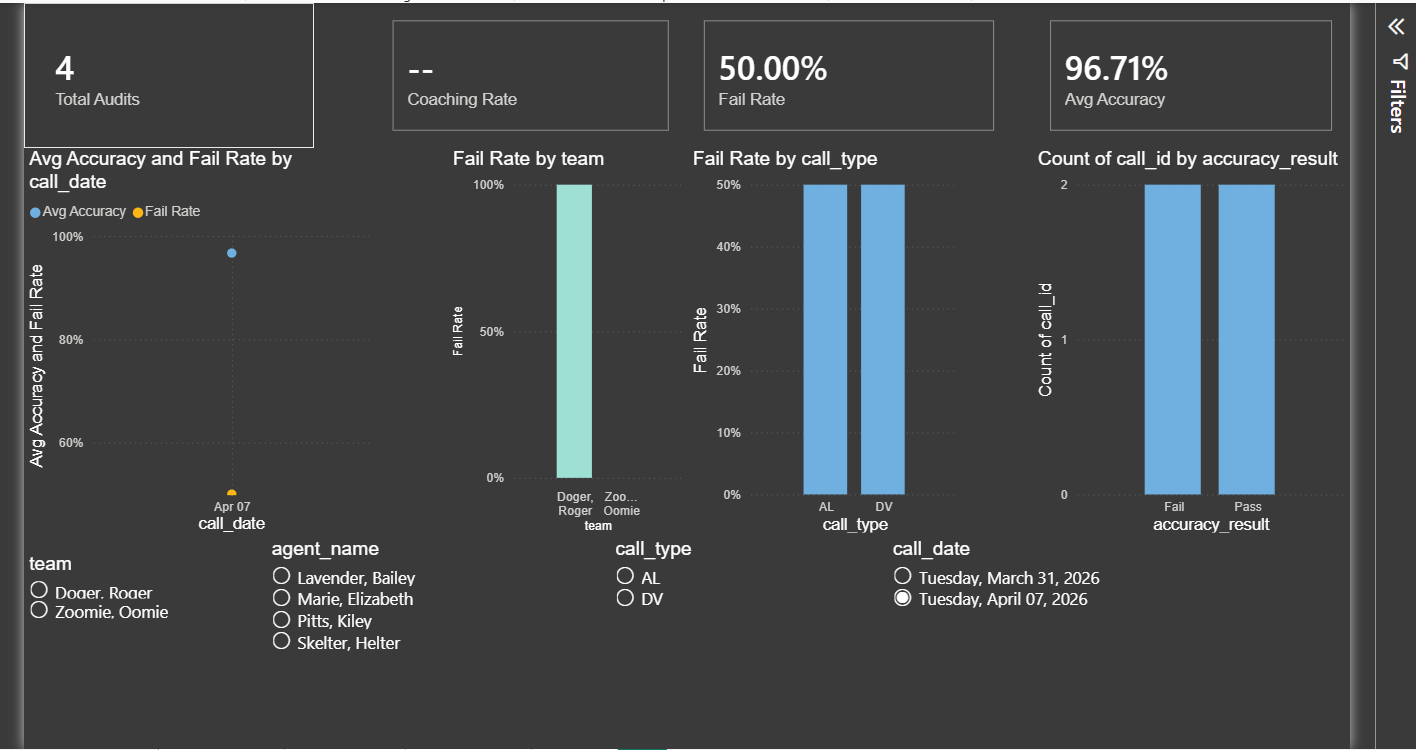

The dashboard page shown, as its layout file describes it:
{"tool":"powerbi","page":{"name":"QC Metrics","canvas":[1280,720],"ordinal":0},"visuals":[{"type":"cardVisual","fields":{"Data":["QC_Audit_Data.Total Audits"]},"box":[0,0,280.1,140.1],"z":0},{"type":"cardVisual","fields":{"Data":["QC_Audit_Data.Fail Rate"]},"box":[640,0,314.2,140.1],"z":1000},{"type":"cardVisual","fields":{"Data":["QC_Audit_Data.Avg Accuracy"]},"box":[973.6,0,306.4,140.1],"z":2000},{"type":"cardVisual","fields":{"Data":["QC_Audit_Data.Coaching Rate"]},"box":[339.5,0,300.5,140.1],"z":3000},{"type":"lineChart","fields":{"Y":["QC_Audit_Data.Avg Accuracy","QC_Audit_Data.Fail Rate"],"Category":["QC_Audit_Data.call_date"]},"box":[0,140.1,338.5,376.4],"z":4000},{"type":"clusteredColumnChart","fields":{"Category":["QC_Audit_Data.team"],"Y":["QC_Audit_Data.Fail Rate"]},"box":[408.8,140.1,231.4,376],"z":5000},{"type":"clusteredColumnChart","fields":{"Category":["QC_Audit_Data.call_type"],"Y":["QC_Audit_Data.Fail Rate"]},"box":[640.2,140.1,266.9,376],"z":6000},{"type":"listSlicer","fields":{"Values":["QC_Audit_Data.team"]},"box":[0,531.1,280.1,188.7],"z":7000},{"type":"listSlicer","fields":{"Values":["QC_Audit_Data.agent_name"]},"box":[234.4,516.5,299.6,203.3],"z":8000},{"type":"listSlicer","fields":{"Values":["QC_Audit_Data.call_type"]},"box":[566,516,267,203],"z":9000},{"type":"listSlicer","fields":{"Values":["QC_Audit_Data.call_date"]},"box":[833.6,516.5,280.1,203.3],"z":10000},{"type":"clusteredColumnChart","fields":{"Category":["QC_Audit_Data.accuracy_result"],"Y":["CountNonNull(QC_Audit_Data.call_id)"]},"box":[974,140,306,376],"z":11000}]}

Visuals, with their boxes on the page's 1280x720 design canvas (x1, y1, x2, y2). These are canvas units, not pixel positions in the 1416x750 screenshot, which may show the page scaled, cropped or inside an application window:
cardVisual - QC_Audit_Data.Total Audits: <box>0,0,280,140</box>
cardVisual - QC_Audit_Data.Fail Rate: <box>640,0,954,140</box>
cardVisual - QC_Audit_Data.Avg Accuracy: <box>974,0,1280,140</box>
cardVisual - QC_Audit_Data.Coaching Rate: <box>340,0,640,140</box>
lineChart - QC_Audit_Data.Avg Accuracy x QC_Audit_Data.Fail Rate: <box>0,140,338,516</box>
clusteredColumnChart - QC_Audit_Data.team x QC_Audit_Data.Fail Rate: <box>409,140,640,516</box>
clusteredColumnChart - QC_Audit_Data.call_type x QC_Audit_Data.Fail Rate: <box>640,140,907,516</box>
listSlicer - QC_Audit_Data.team: <box>0,531,280,720</box>
listSlicer - QC_Audit_Data.agent_name: <box>234,516,534,720</box>
listSlicer - QC_Audit_Data.call_type: <box>566,516,833,719</box>
listSlicer - QC_Audit_Data.call_date: <box>834,516,1114,720</box>
clusteredColumnChart - QC_Audit_Data.accuracy_result x CountNonNull(QC_Audit_Data.call_id): <box>974,140,1280,516</box>
